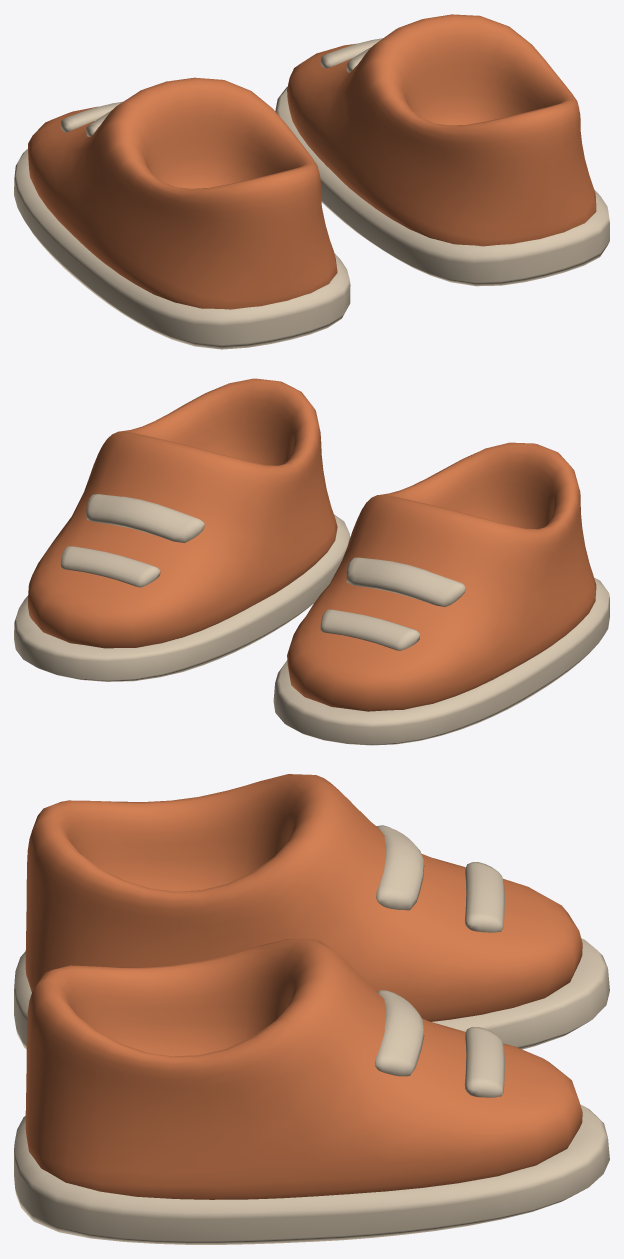
File: sneakers.fbx
3 views of the same model, one above another, from view 1: azimuth 30°, elevation 25°; view 2: azimuth 150°, elevation 25°; view 3: azimuth 270°, elevation 25° (orthographic). The views are drawn at different scales.
Visible parts, largest first — view 1: sneakers; view 2: sneakers; view 3: sneakers.
Part boxes in pixels (left/top/right/bottom): sneakers: left=14, top=14, right=609, bottom=349; sneakers: left=14, top=378, right=609, bottom=745; sneakers: left=14, top=774, right=609, bottom=1244.
Size of the model in its own units: 32.89 by 11.63 by 28.16.
